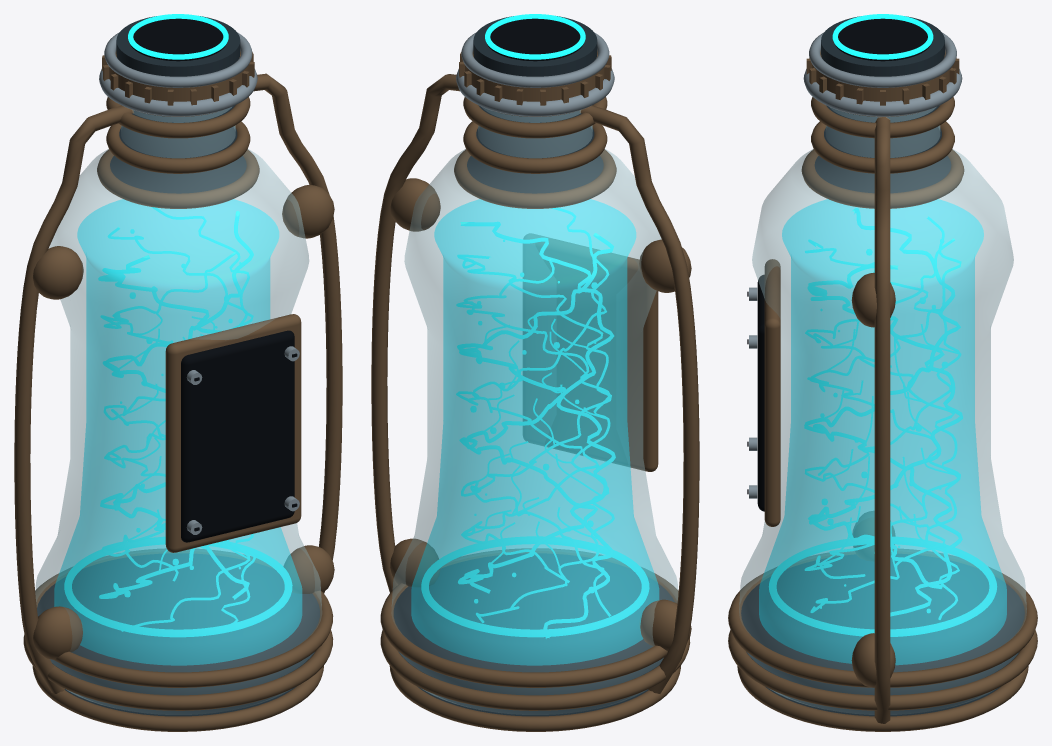
File: aether-decanter.glb
The picture shows the model from 3 angles, left to right: view 1: azimuth 30°, elevation 25°; view 2: azimuth 150°, elevation 25°; view 3: azimuth 270°, elevation 25°; orthographic projection.
Parts seen in each view (by area): view 1: Optical glass, Liquid, Aged bronze (×2), Brushed titanium (×2), LabelSurface, Energy (×2), Ceramic inserts (×2), Machined edges (×2); view 2: Optical glass, Liquid, Aged bronze (×2), Brushed titanium (×2), Energy (×2), Machined edges, Ceramic inserts; view 3: Optical glass, Liquid, Aged bronze (×2), Brushed titanium (×2), Energy (×2), Ceramic inserts (×2), Machined edges.
Part boxes in pixels (x1,y1,x2,y2): Optical glass: (35,107,321,714); Liquid: (54,199,301,665); Aged bronze (×2): (14,50,342,731); Brushed titanium (×2): (37,16,319,716); LabelSurface: (193,352,289,525); Energy (×2): (64,14,292,636); Ceramic inserts (×2): (130,18,297,542); Machined edges (×2): (99,32,299,534); Optical glass: (391,107,678,714); Liquid: (411,199,658,665); Aged bronze (×2): (371,50,699,731); Brushed titanium (×2): (393,16,674,716); Energy (×2): (421,14,649,638); Machined edges: (456,32,614,116); Ceramic inserts: (487,18,583,61); Optical glass: (739,107,1026,714); Liquid: (759,199,1006,664); Aged bronze (×2): (728,50,1037,731); Brushed titanium (×2): (741,16,1024,716); Energy (×2): (769,14,996,636); Ceramic inserts (×2): (747,18,930,511); Machined edges: (803,32,962,116).
Bounding box in the file's own units: 1.64 × 3.06 × 1.35.
